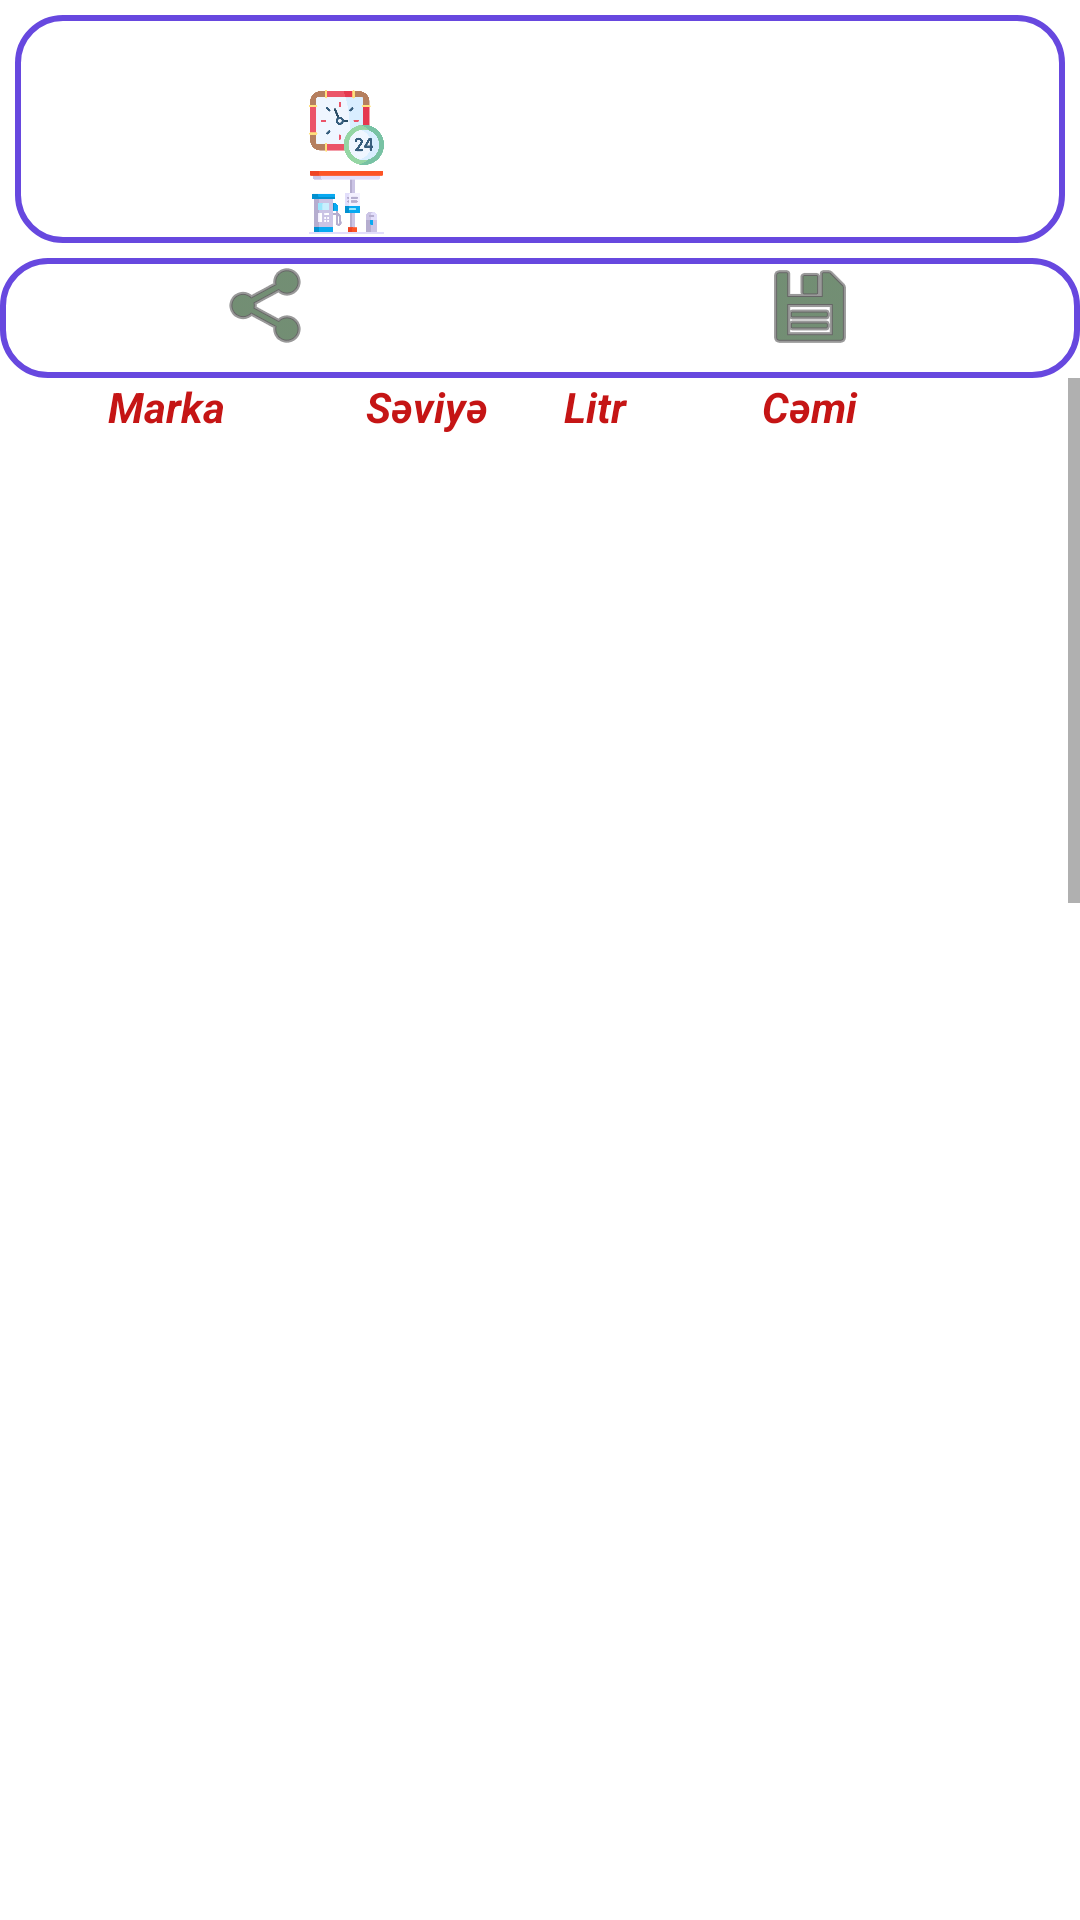

Named icons in this screenshot (1080w x 1920h) and their bounding boxes, box=[x1, y1, x2, y2]:
save: box=[774, 270, 846, 343]
